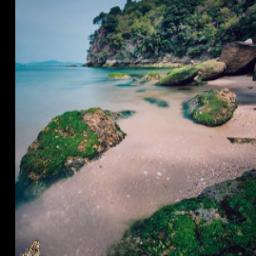Sparrow: (21, 240, 41, 256)
